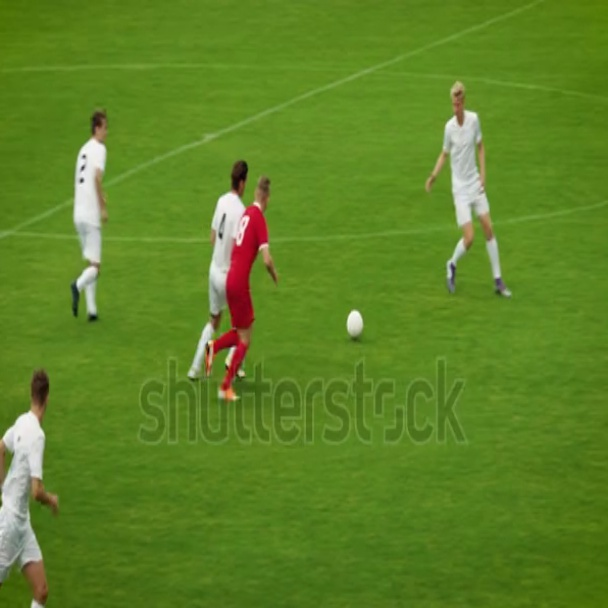ball: (348, 307, 366, 343)
